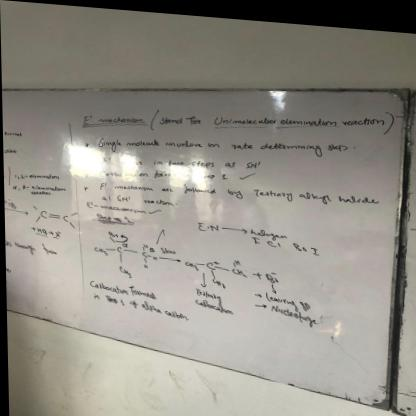Handwritten text: (110, 180, 383, 205), (93, 133, 361, 153), (155, 107, 387, 124), (88, 151, 273, 167), (91, 166, 218, 179)
Whiteboard: (0, 53, 413, 402)
